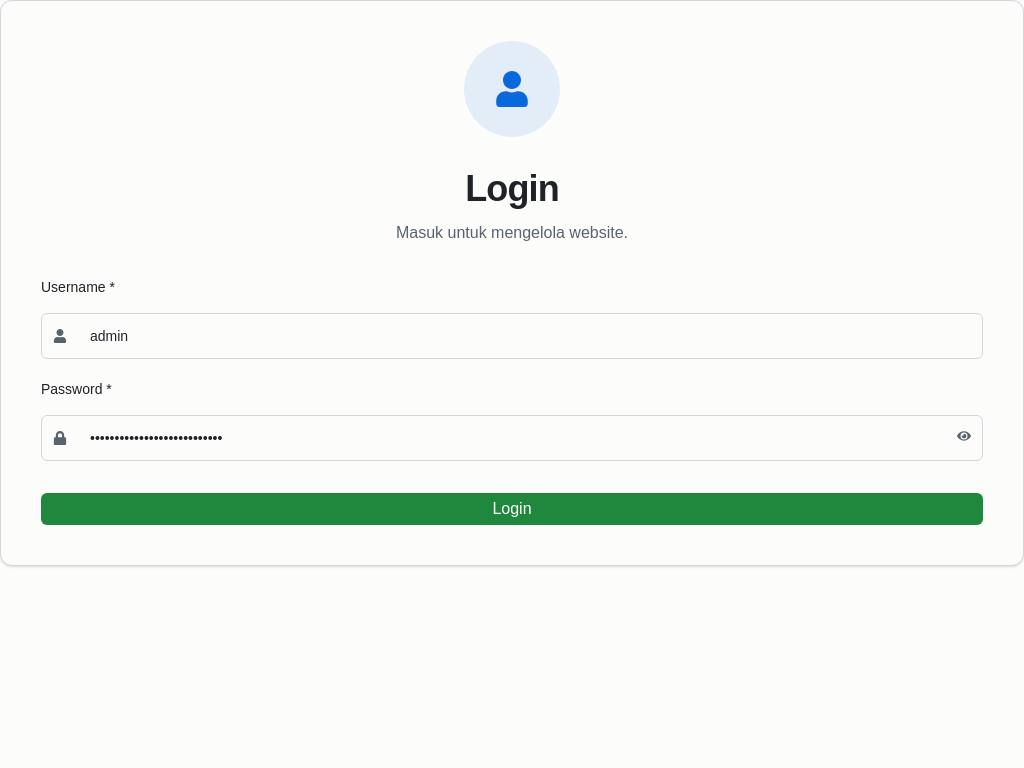
Test case: LoginForm › toggles password visibility without changing its value
Type "secret" into the password field named "password" at (512, 438), box [41,415,983,461]
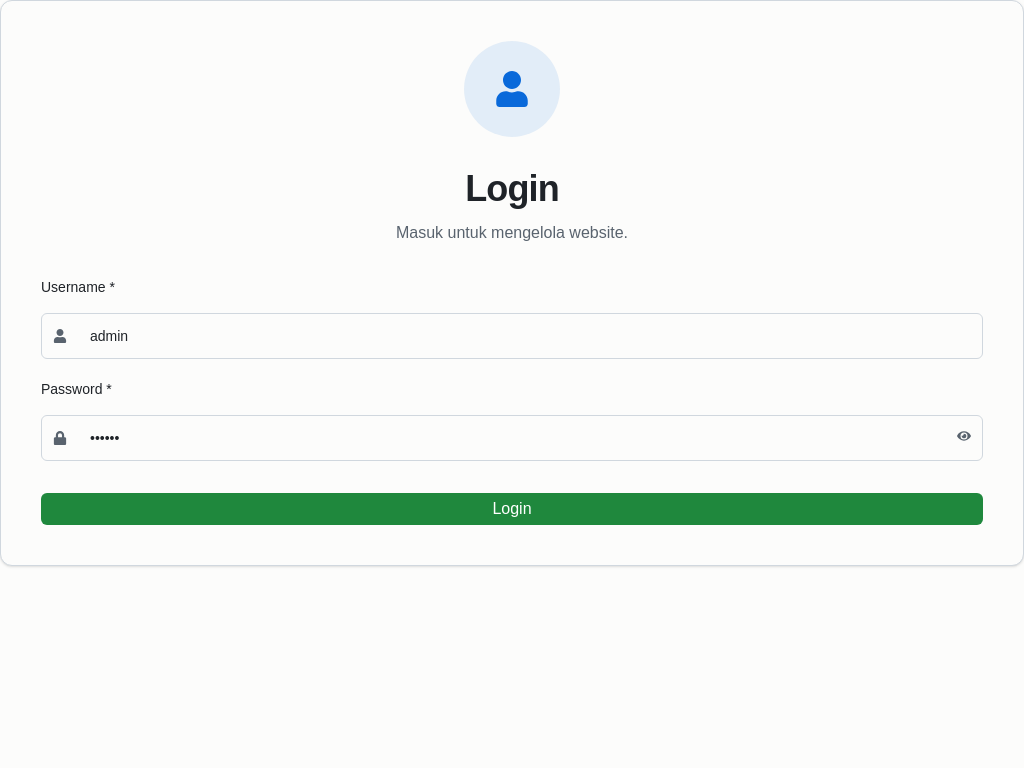
Click the button named "Lihat password" at (964, 436), box [957,429,971,443]
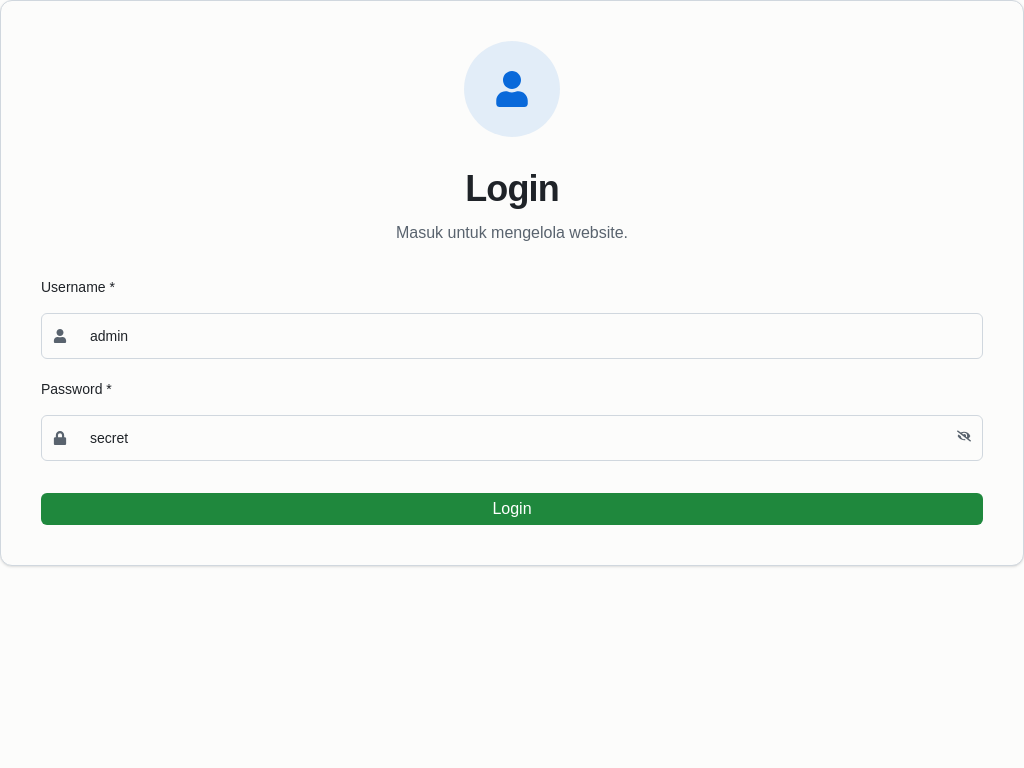
Result: the field named "password" shows its text at [41,415,983,461]
